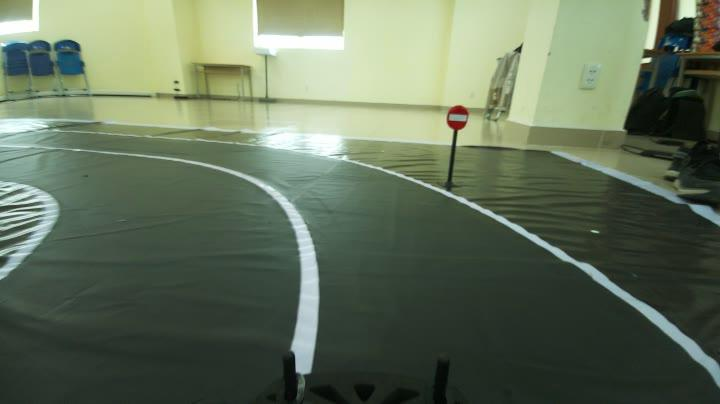no_entry: (443, 99, 471, 128)
